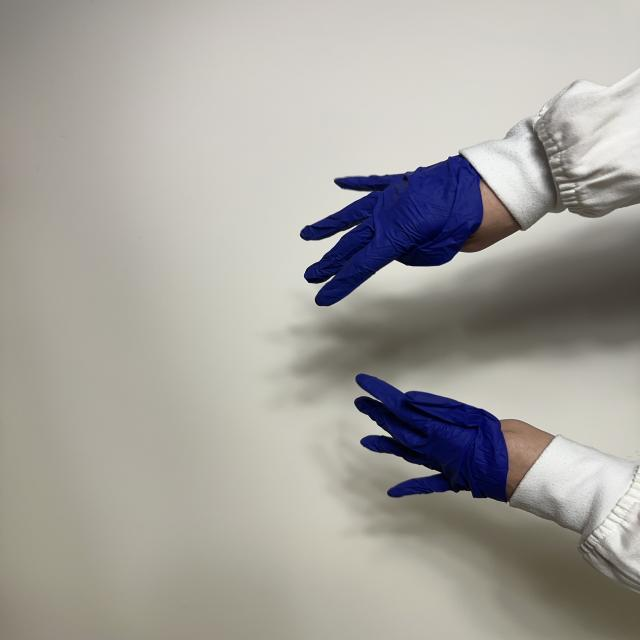glove_partial: (300, 156, 520, 306), (355, 374, 554, 501)
